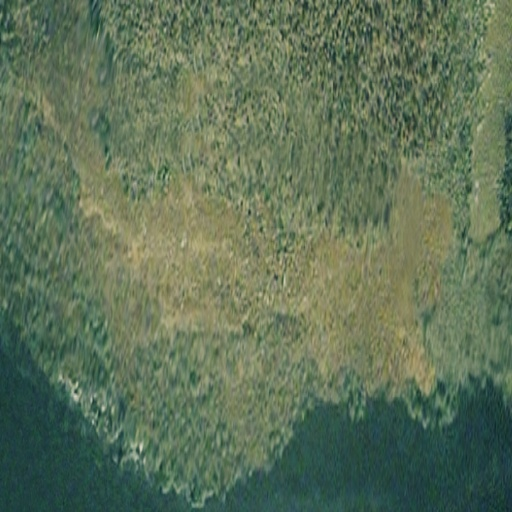landslide: (58, 115, 261, 325), (295, 177, 469, 391)
